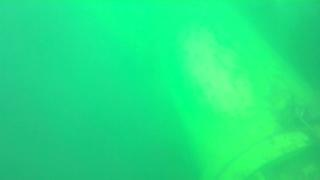pipe: (79, 1, 320, 180)
